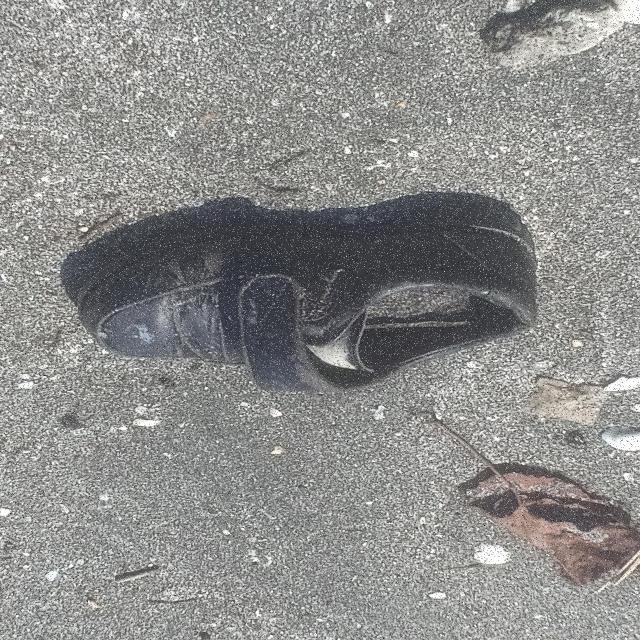rubber_waste: (77, 206, 542, 396)
